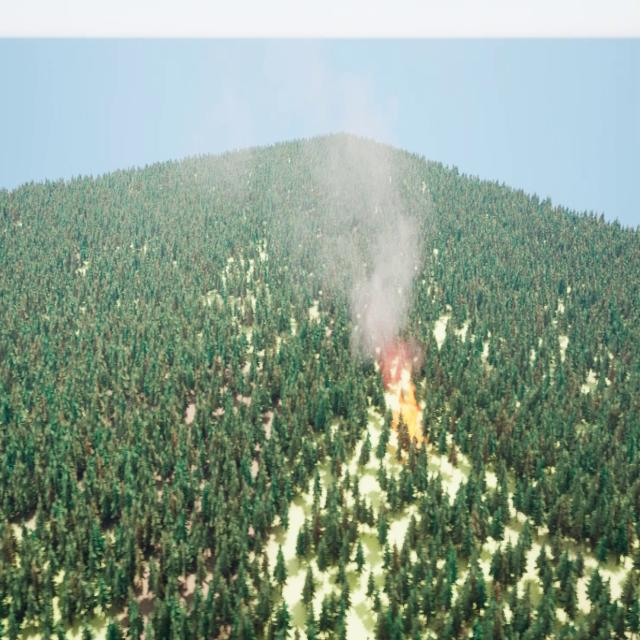fire: (380, 353, 431, 446)
smoke: (212, 43, 430, 353)
